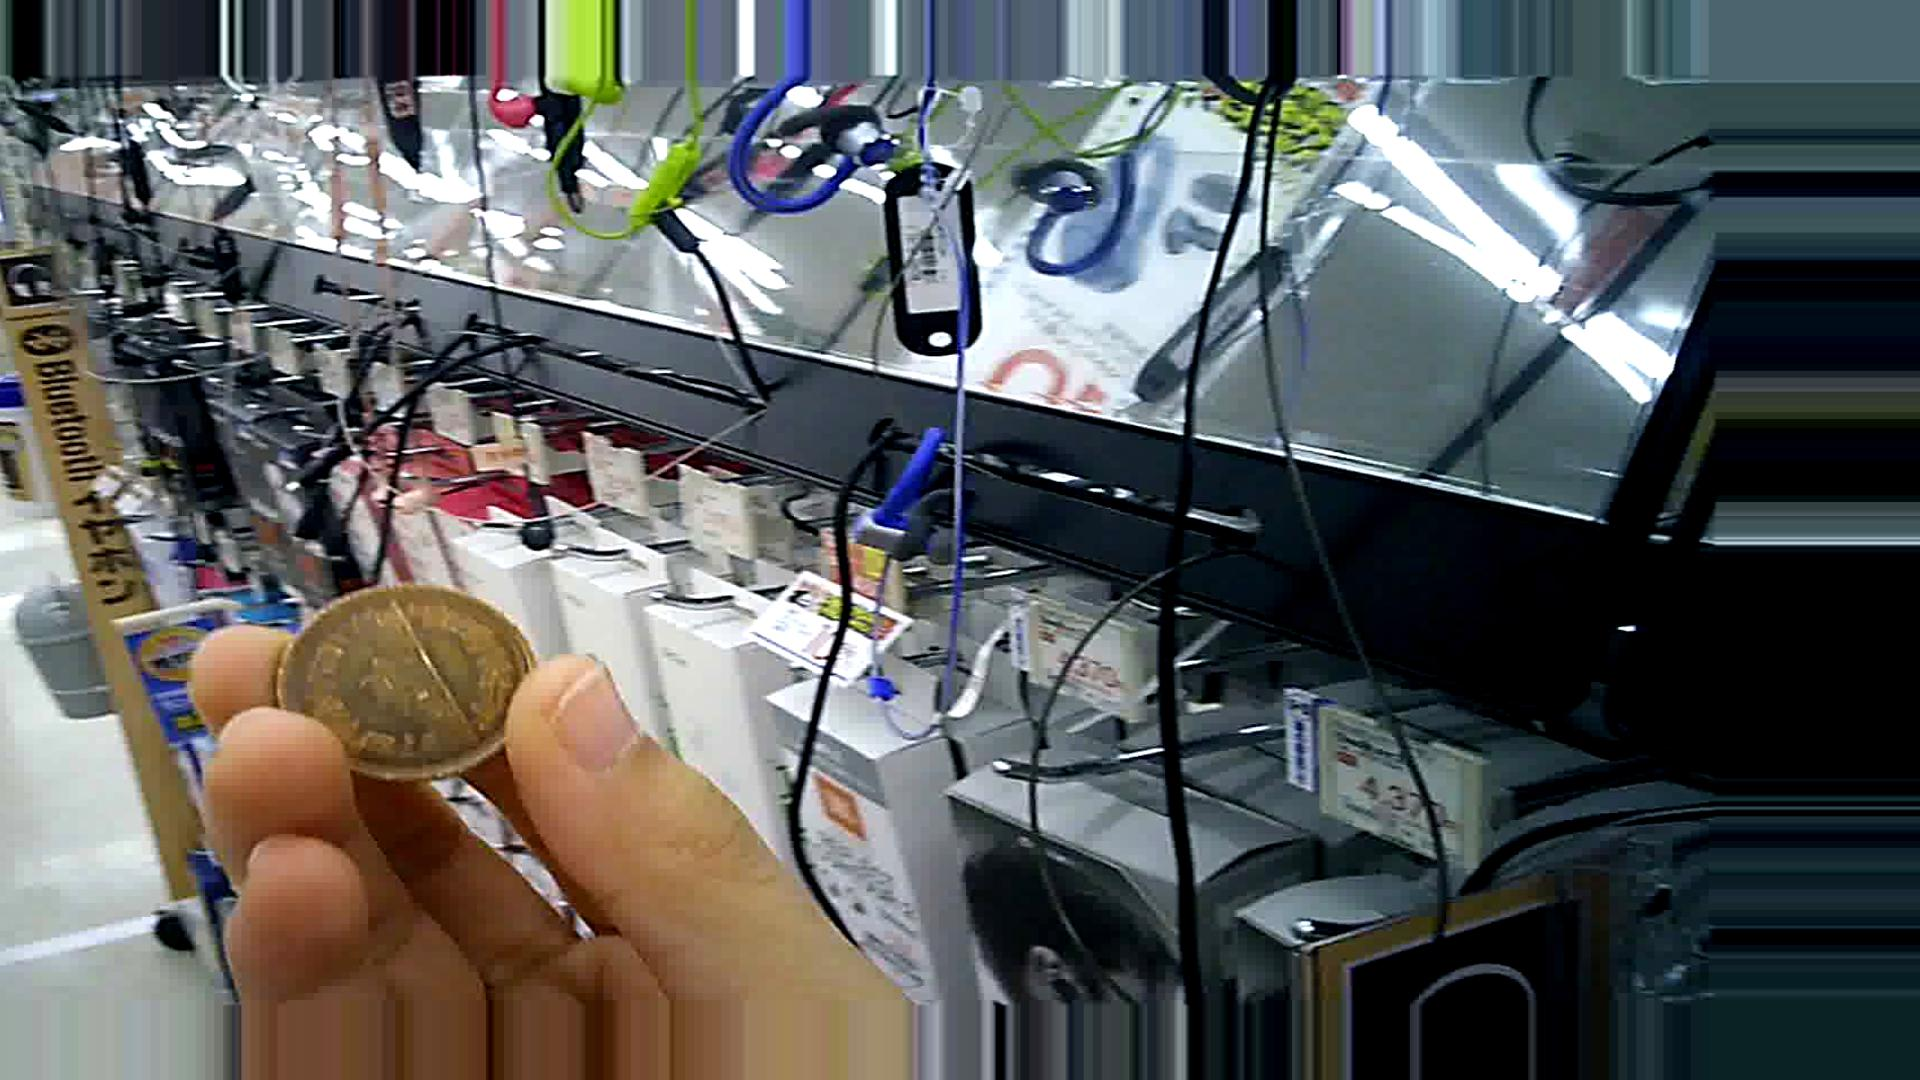10 Yen: (266, 578, 529, 781)
